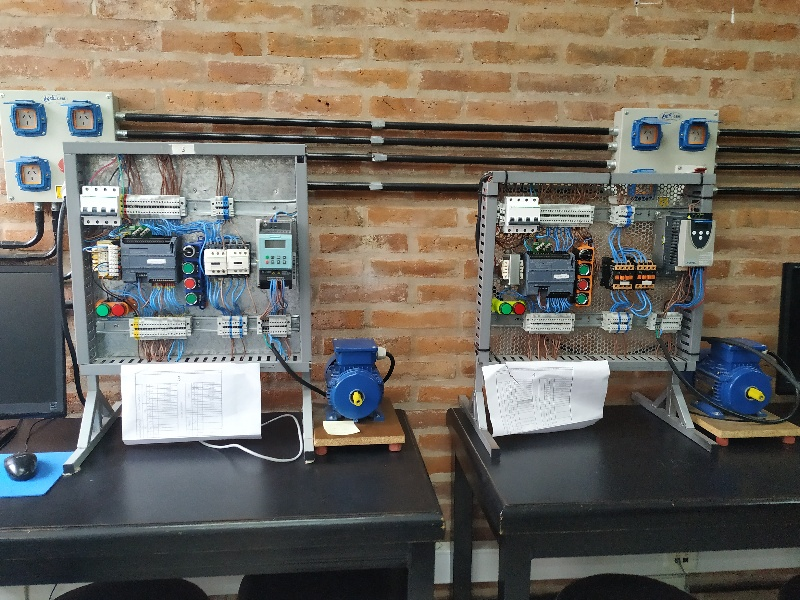Tablero 3: (66, 147, 307, 367)
Tablero 4: (493, 171, 717, 364)
